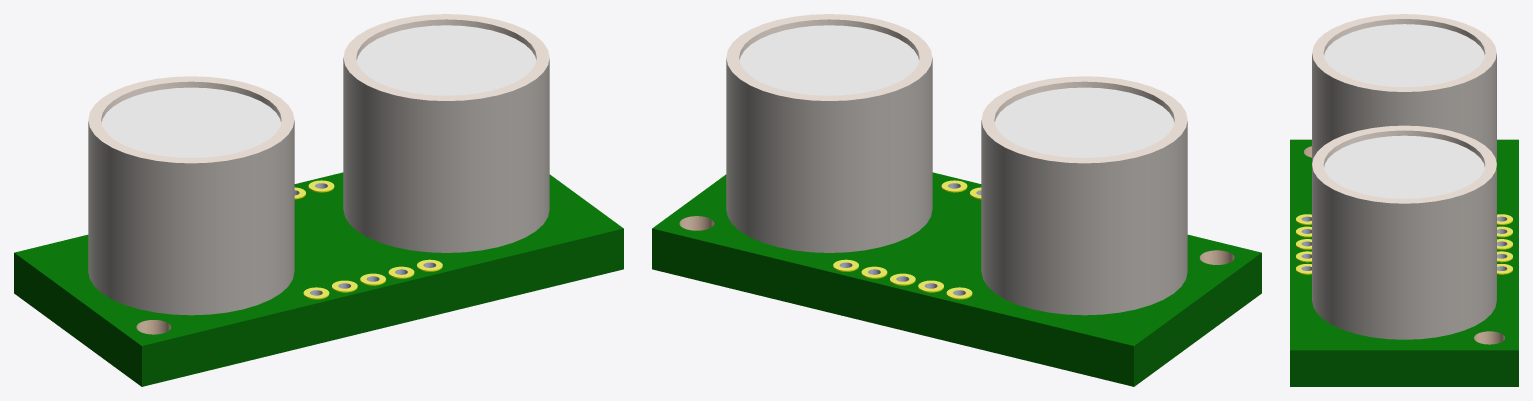
File: ultrasonic_srf05.gltf
The picture shows the model from 3 angles, left to right: view 1: azimuth 30°, elevation 25°; view 2: azimuth 150°, elevation 25°; view 3: azimuth 270°, elevation 25°; orthographic projection. The views are drawn at different scales.
Parts seen in each view (by area): view 1: ultrasonic_srf05; view 2: ultrasonic_srf05; view 3: ultrasonic_srf05.
Boxes of the visible parts, bbox=[...] form: ultrasonic_srf05: bbox=[14, 14, 623, 386]; ultrasonic_srf05: bbox=[652, 14, 1261, 386]; ultrasonic_srf05: bbox=[1290, 14, 1518, 386].
Size of the model in its own units: 0.0432 by 0.0166 by 0.0198.
